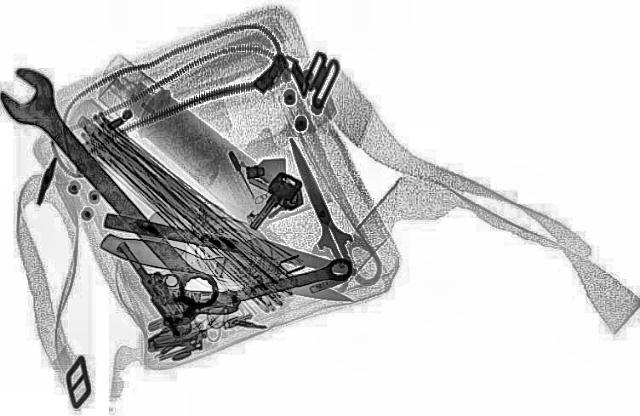Gun: (111, 225, 252, 337)
Knife: (92, 226, 358, 312), (99, 208, 363, 276), (274, 135, 362, 269)
Wrench: (1, 89, 238, 312), (147, 252, 360, 328)
